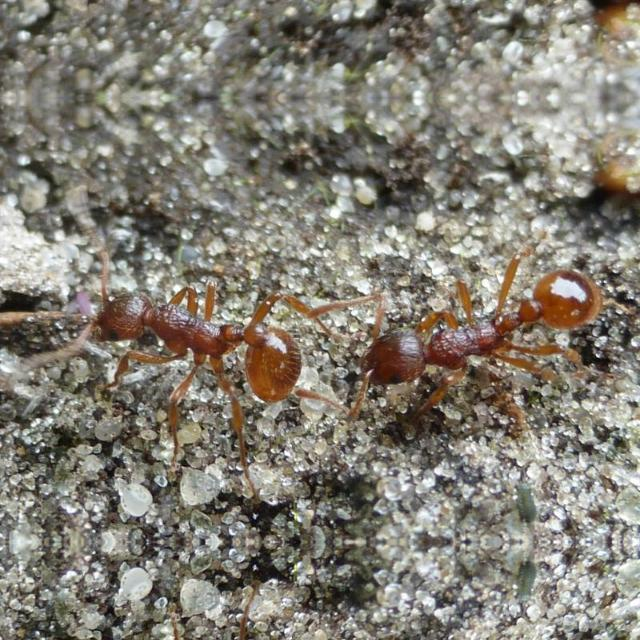Myrmica: (332, 220, 614, 436), (56, 246, 296, 412)
